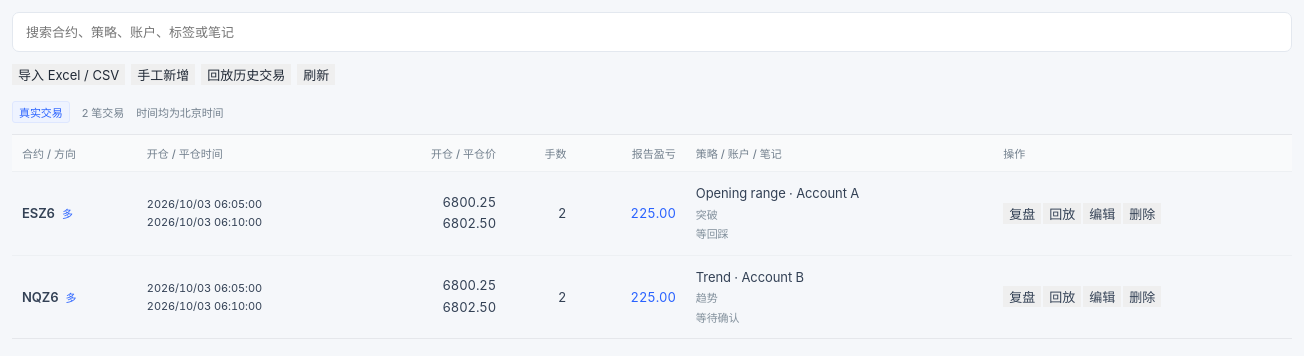
Scenario: uses the selected row for replay and updates the filtered list when search changes
Type "NQZ6" into the search field named "搜索交易记录" at coordinates (652, 32), box [12,12,1292,52]
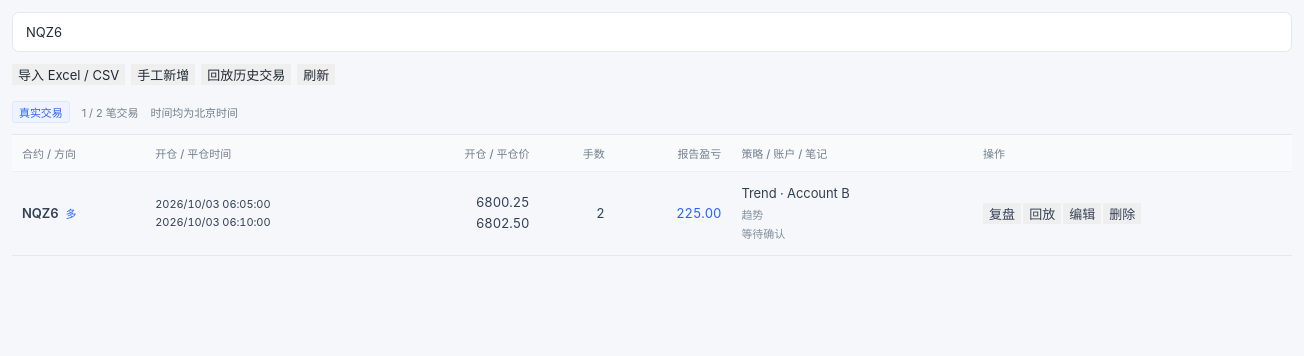
Result: the text "ESZ6" is gone
Click the button "回放" at coordinates (1042, 213), box [1023,203,1061,224]
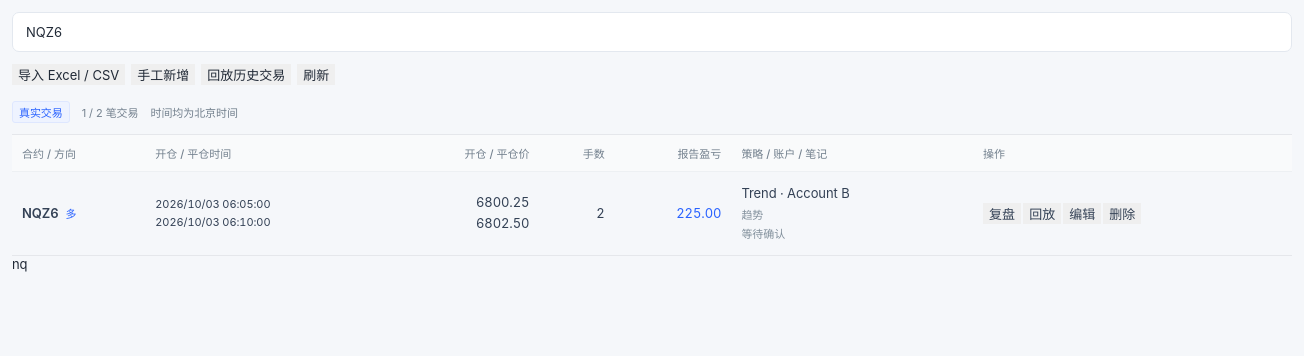
Result: the text "nq" is shown at [12,256,28,272]
